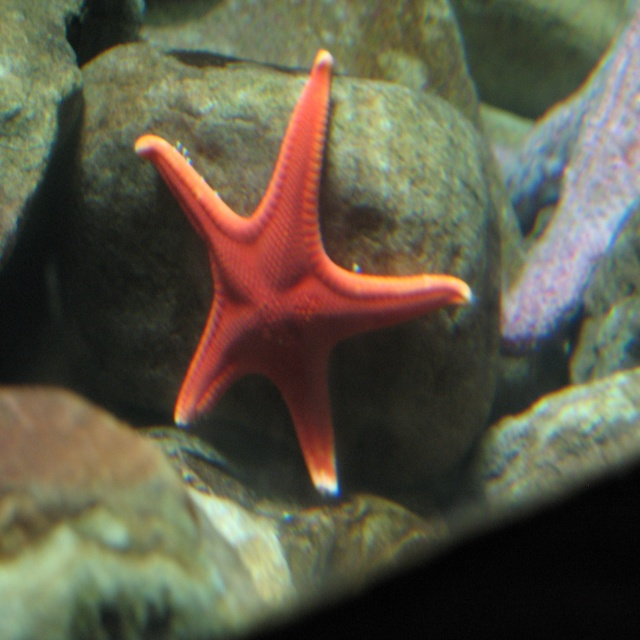Starfish: (134, 48, 472, 499)
